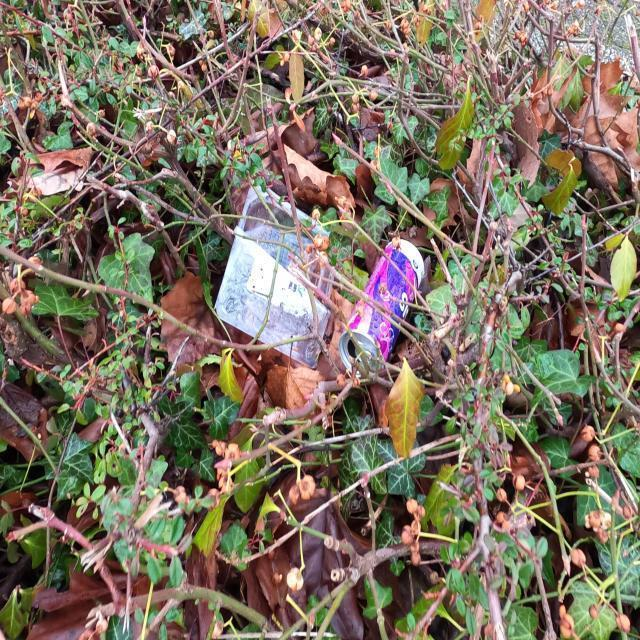Can-Metal: (338, 238, 426, 380)
Plastic: (213, 184, 335, 370)
